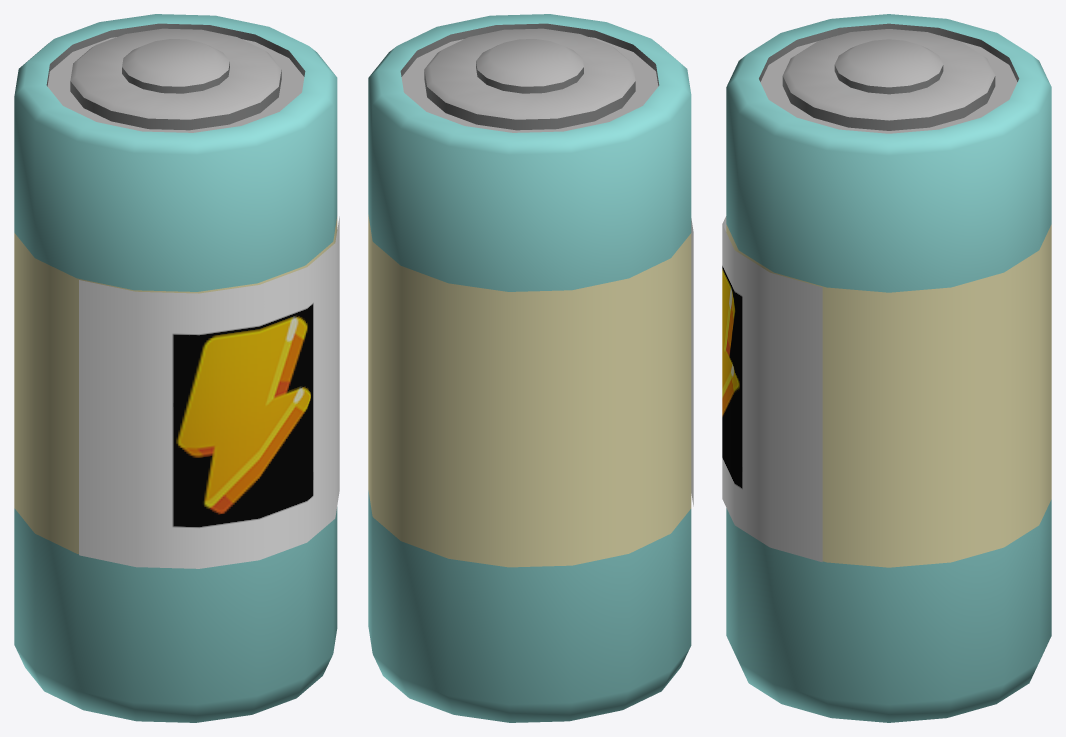
The model's file is Battery.fbx.
3 renders of one model, left to right at view 1: azimuth 30°, elevation 25°; view 2: azimuth 150°, elevation 25°; view 3: azimuth 270°, elevation 25°, orthographic.
Parts seen in each view (by area): view 1: Cylinder.001; view 2: Cylinder.001; view 3: Cylinder.001.
Part boxes in pixels (x1,y1,x2,y2): Cylinder.001: (14, 14, 339, 722); Cylinder.001: (368, 14, 693, 722); Cylinder.001: (722, 14, 1051, 722).
Size of the model in its own units: 0.4 by 0.83 by 0.405.
